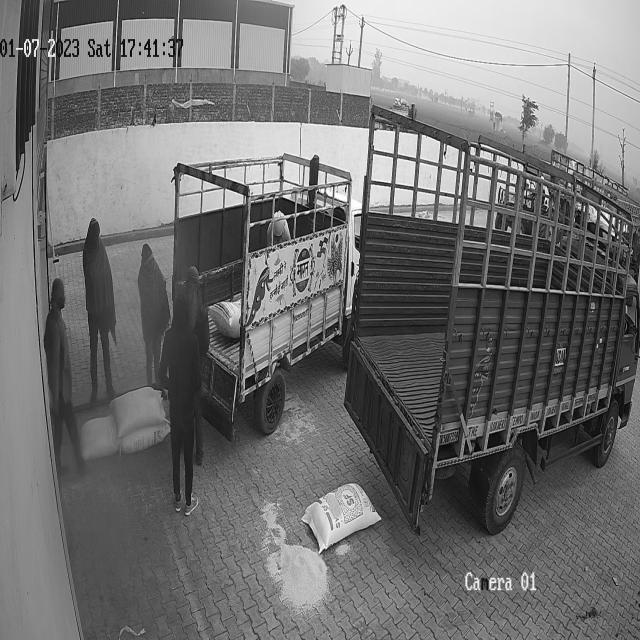sack: (302, 483, 381, 552), (110, 387, 165, 435), (80, 415, 119, 461), (122, 421, 168, 452)
